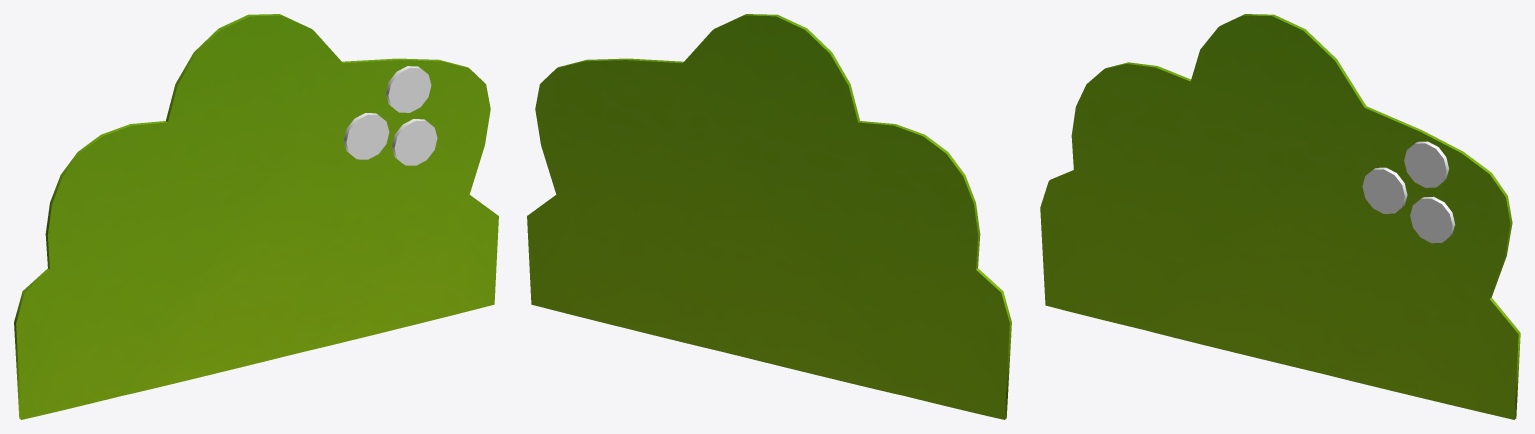
File: obj-shrub1.FBX
3 views of the same model, side by side, from view 1: azimuth 30°, elevation 25°; view 2: azimuth 150°, elevation 25°; view 3: azimuth 330°, elevation 25° (orthographic).
Parts seen in each view (by area): view 1: obj-shrub1; view 2: obj-shrub1; view 3: obj-shrub1.
Part boxes in pixels (x1,y1,x2,y2): obj-shrub1: (14, 14, 498, 419); obj-shrub1: (527, 14, 1011, 419); obj-shrub1: (1040, 14, 1520, 419).
Bounding box in the file's own units: 5.79 × 4 × 0.0964.
